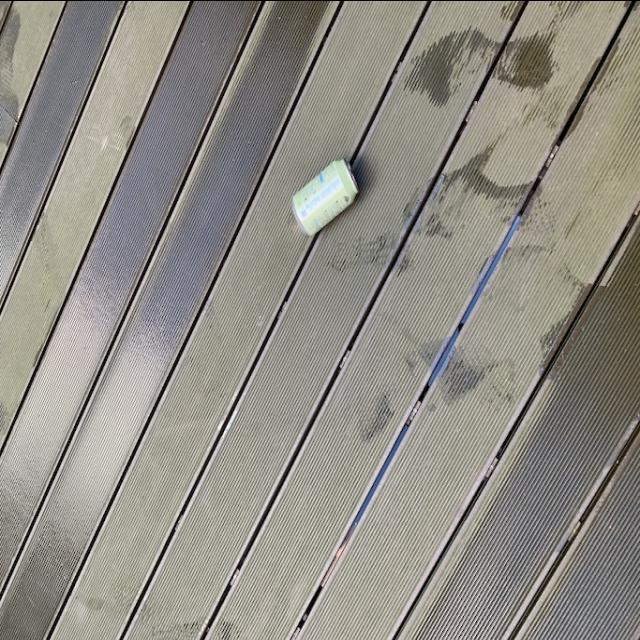litter: (294, 154, 364, 242)
